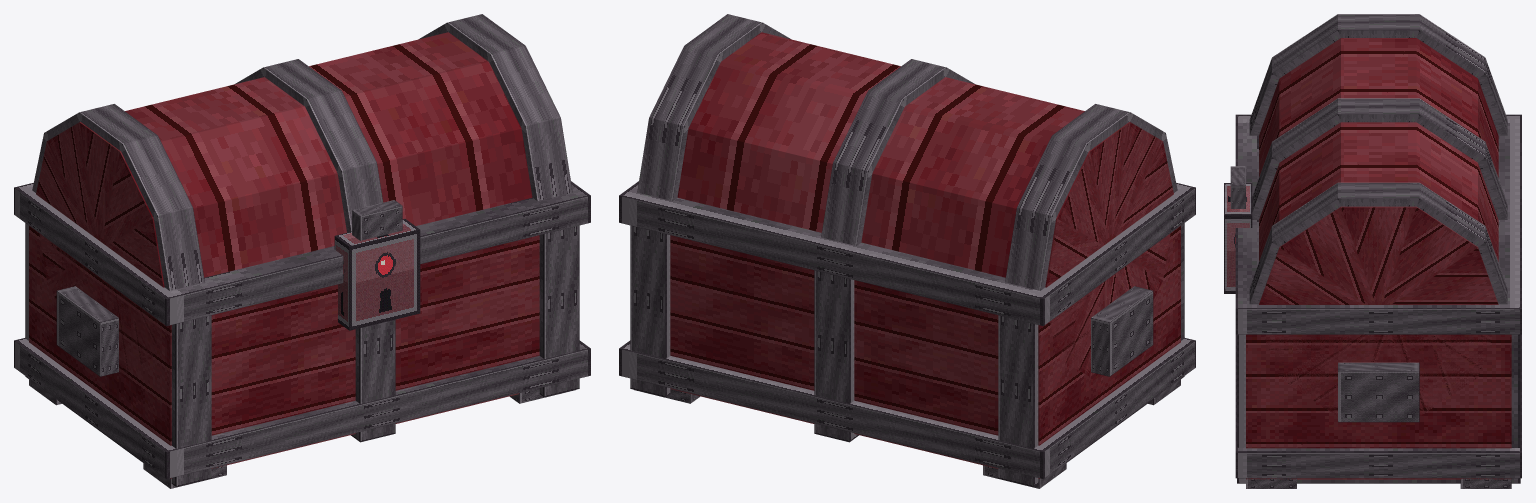
Rendered from bau_de_sangue.glb.
The picture shows the model from 3 angles, left to right: view 1: azimuth 30°, elevation 25°; view 2: azimuth 150°, elevation 25°; view 3: azimuth 270°, elevation 25°; orthographic projection. The views are drawn at different scales.
Visible parts, largest first — view 1: bau_de_sangue; view 2: bau_de_sangue; view 3: bau_de_sangue.
Boxes of the visible parts, bbox=[...] form: bau_de_sangue: bbox=[14, 14, 590, 488]; bau_de_sangue: bbox=[619, 14, 1195, 488]; bau_de_sangue: bbox=[1224, 14, 1521, 488].
Size of the model in its own units: 0.95 by 0.6254 by 0.5825.
Materials: 1 (1 with a texture image).
